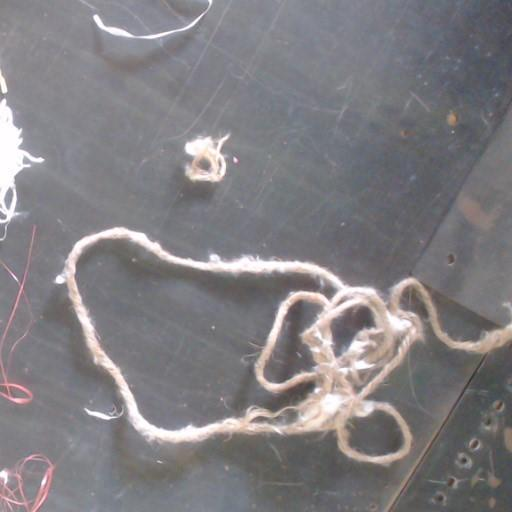conveyor belt: (78, 244, 315, 427)
jute: (60, 227, 511, 463), (184, 135, 228, 183)
thread: (0, 225, 35, 404), (0, 98, 43, 240), (93, 0, 212, 39), (0, 454, 54, 511)
